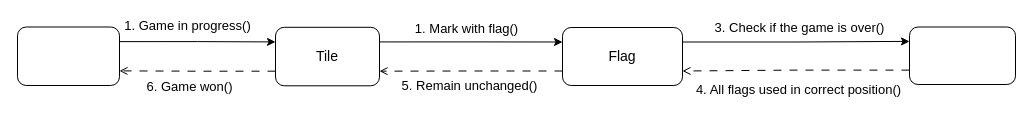
This 1033x115 diagram has some shape labels left out. Here are the shapes that lost their labels. From the top down, the centre of each, then its label:
pixel 68 56: Game
pixel 962 55: Validation System
